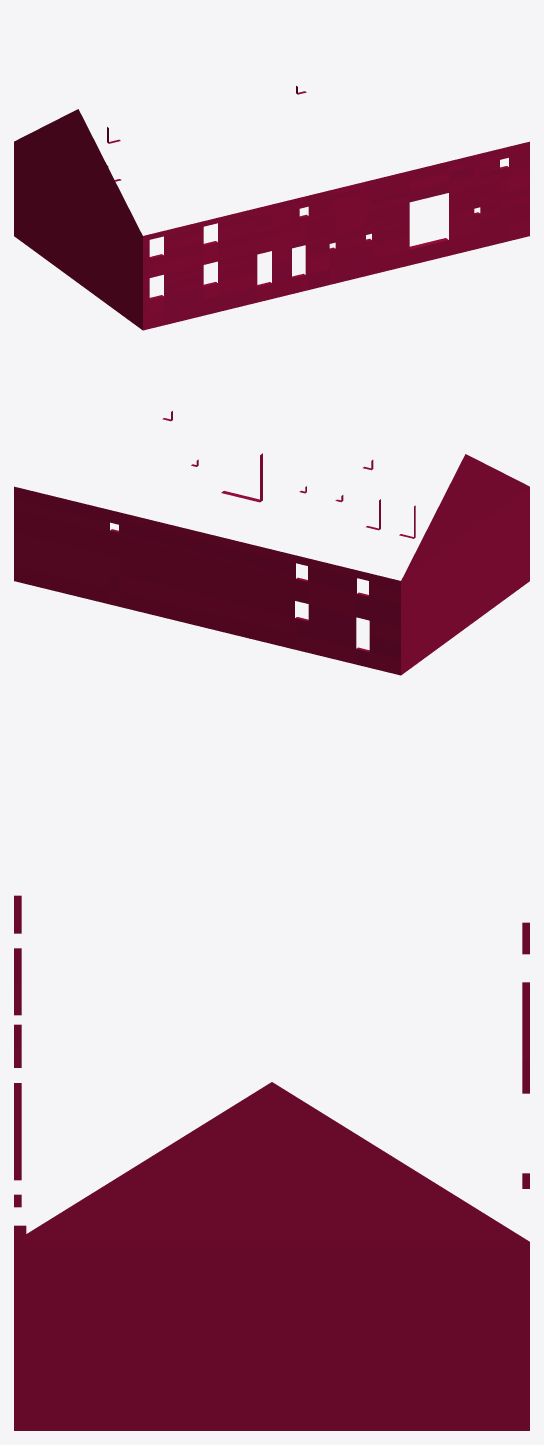
File: SM_Bld_025_Masonry.glb
3 renders of one model, top to bottom at view 1: azimuth 30°, elevation 25°; view 2: azimuth 150°, elevation 25°; view 3: azimuth 270°, elevation 25°, orthographic. The views are drawn at different scales.
Parts seen in each view (by area): view 1: SM_Bld_025_Masonry; view 2: SM_Bld_025_Masonry; view 3: SM_Bld_025_Masonry.
Part boxes in pixels (box(x1,y1,x2,y2)): SM_Bld_025_Masonry: box(14, 86, 529, 330); SM_Bld_025_Masonry: box(14, 411, 529, 675); SM_Bld_025_Masonry: box(14, 895, 529, 1430).
Bounding box in the file's own units: 25.7 × 11.07 × 14.83.
